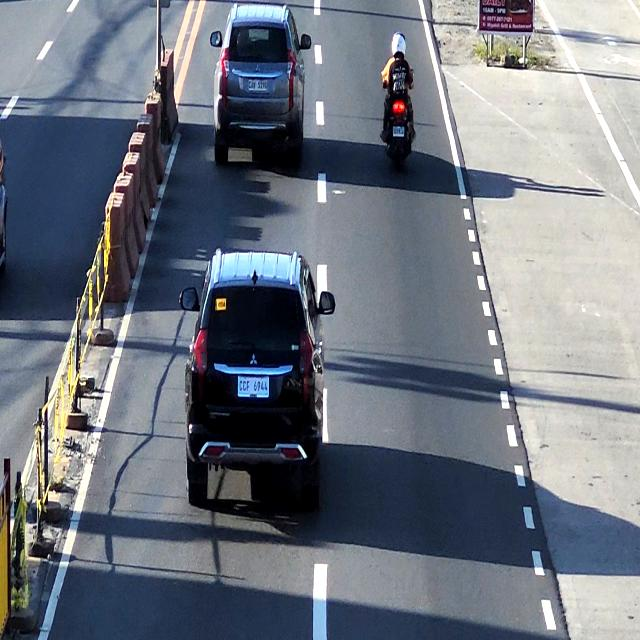Car: (187, 250, 322, 514), (214, 1, 305, 172)
License-Plate: (236, 378, 269, 400), (248, 79, 271, 93), (393, 125, 405, 139)
Motorcycle: (380, 36, 414, 170)
